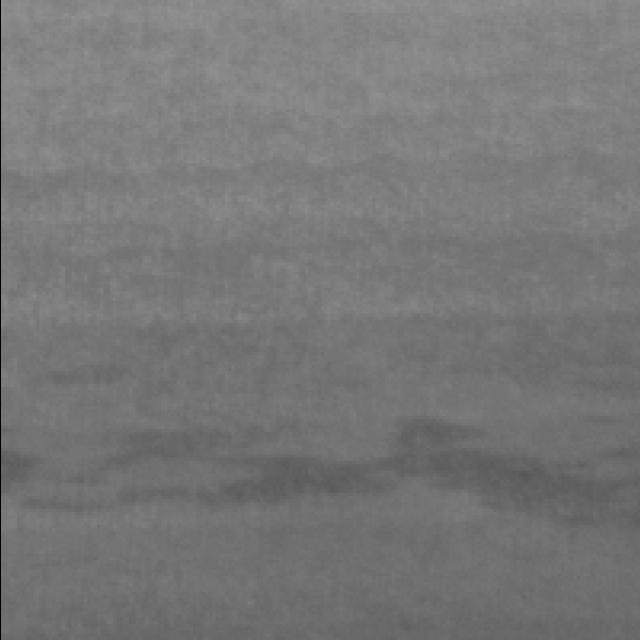inclusion: (182, 414, 634, 544)
